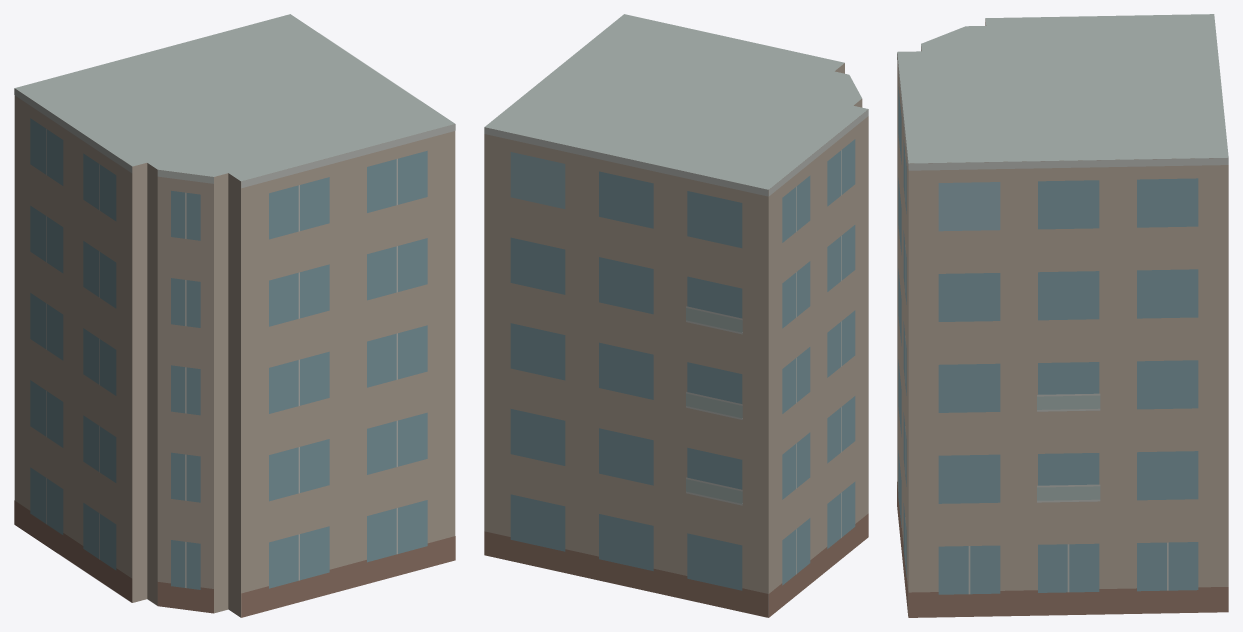
Rendered from survey-upis-33006062.glb.
3 views of the same model, side by side, from view 1: azimuth 30°, elevation 25°; view 2: azimuth 150°, elevation 25°; view 3: azimuth 270°, elevation 25° (orthographic). The views are drawn at different scales.
Parts seen in each view (by area): view 1: survey-upis-33006062.tmp; view 2: survey-upis-33006062.tmp; view 3: survey-upis-33006062.tmp.
Boxes of the visible parts, left/top/right/bottom form: survey-upis-33006062.tmp: left=14, top=14, right=455, bottom=617; survey-upis-33006062.tmp: left=484, top=14, right=868, bottom=617; survey-upis-33006062.tmp: left=897, top=14, right=1228, bottom=617.
Size of the model in its own units: 10.8 by 15.3 by 10.13.
